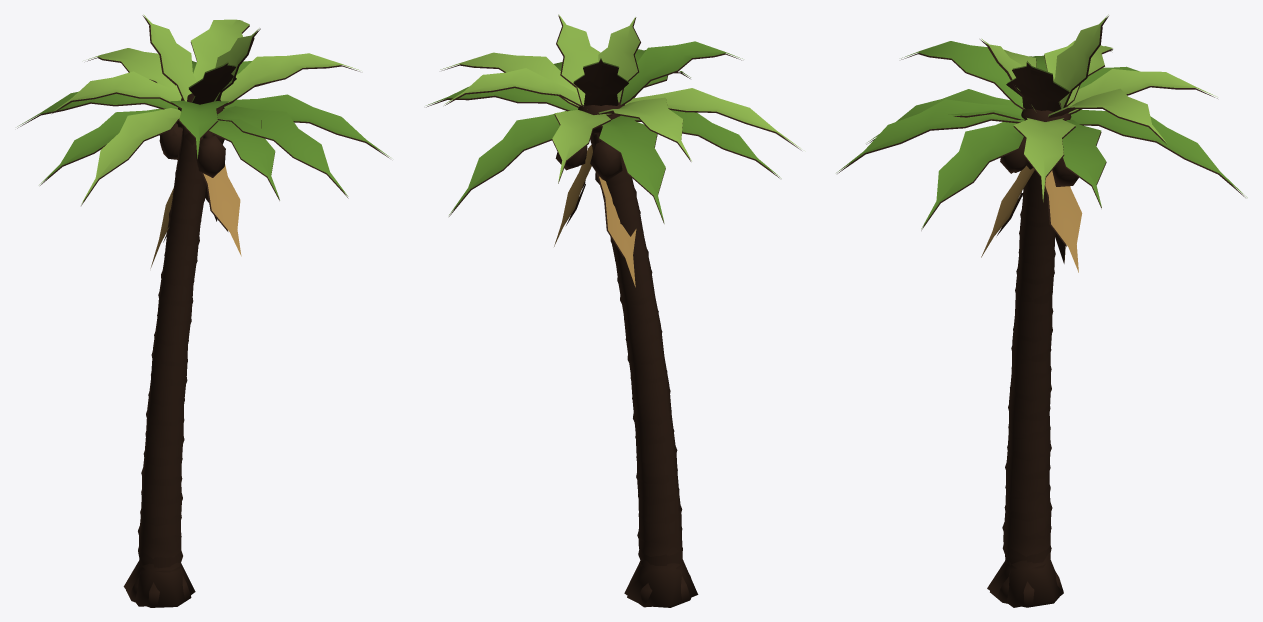
Rendered from palm_a.glb.
3 renders of one model, left to right at view 1: azimuth 30°, elevation 25°; view 2: azimuth 150°, elevation 25°; view 3: azimuth 270°, elevation 25°, orthographic. The views are drawn at different scales.
Parts seen in each view (by area): view 1: palm_a, palm_a_LOD1_outline, palm_a_outline; view 2: palm_a, palm_a_LOD1_outline, palm_a_outline; view 3: palm_a, palm_a_LOD1_outline, palm_a_outline.
Part boxes in pixels (bbox=[...]): palm_a: bbox=[17, 14, 390, 268]; palm_a_LOD1_outline: bbox=[123, 26, 254, 606]; palm_a_outline: bbox=[17, 15, 389, 607]; palm_a: bbox=[426, 15, 800, 287]; palm_a_LOD1_outline: bbox=[555, 27, 698, 607]; palm_a_outline: bbox=[426, 15, 801, 607]; palm_a: bbox=[836, 14, 1247, 272]; palm_a_LOD1_outline: bbox=[987, 26, 1102, 607]; palm_a_outline: bbox=[837, 16, 1245, 607].
Size of what is drawn, in the model's own units: 5.33 by 8.38 by 5.33.
